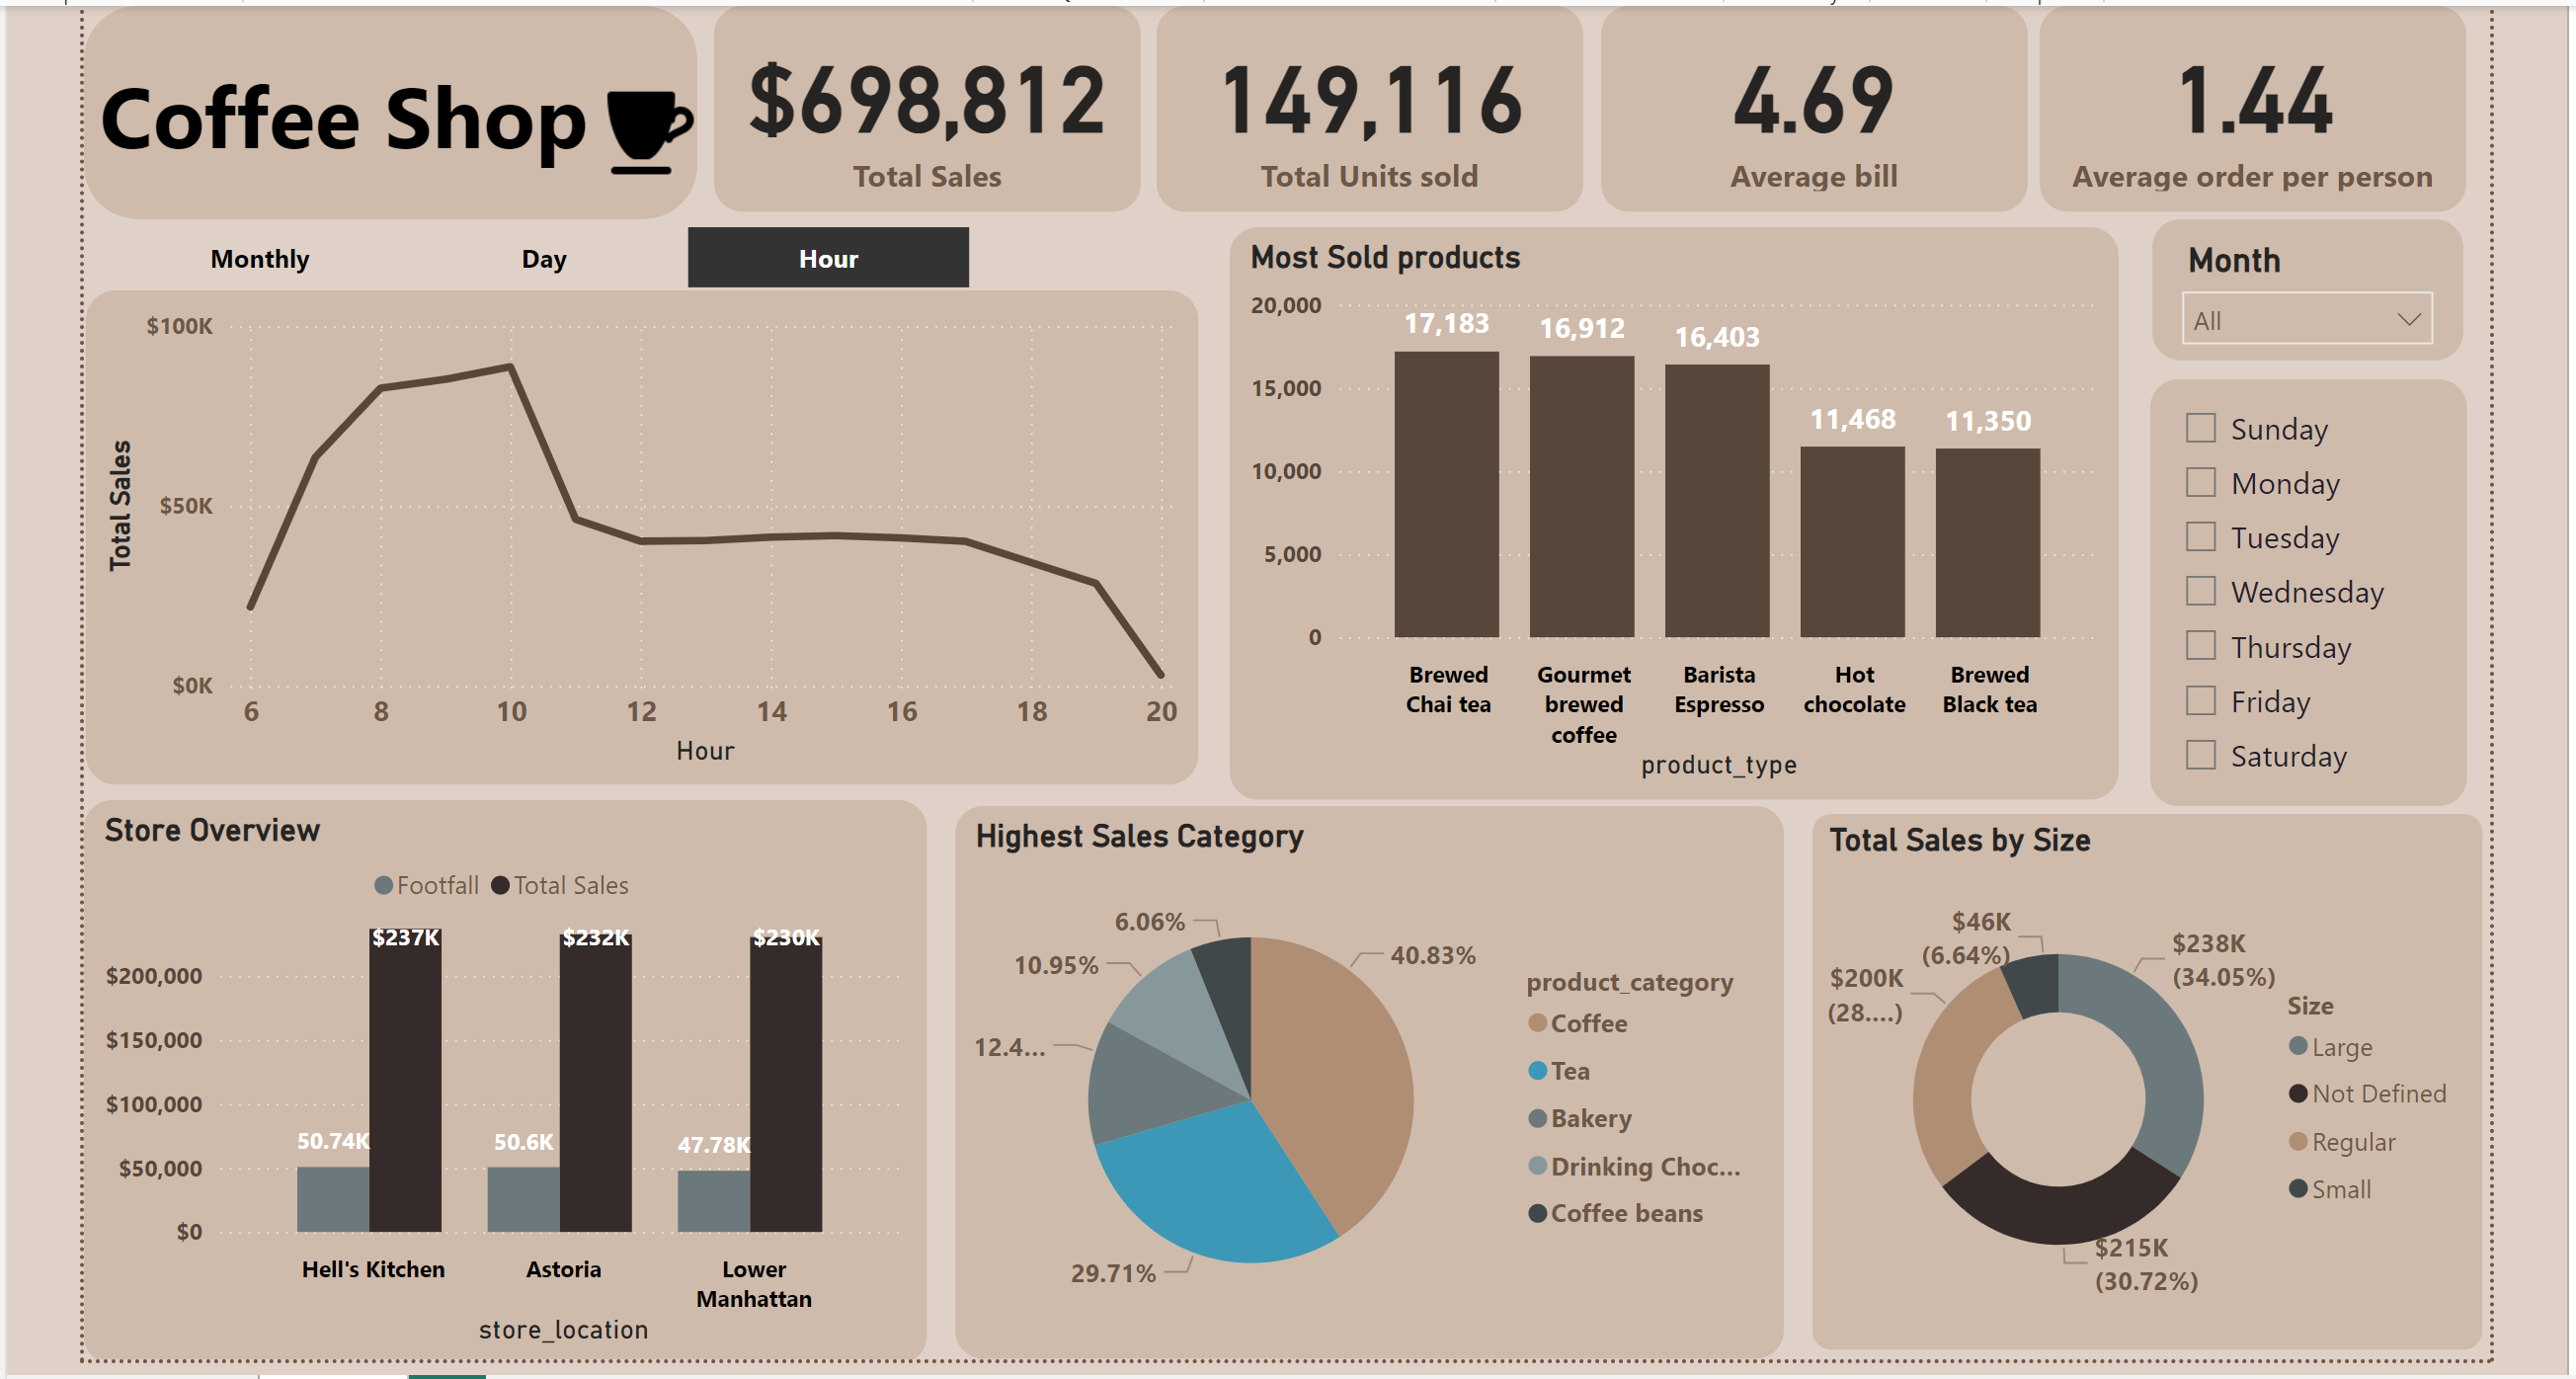

This screenshot's page, from the dashboard's own definition file:
{"tool":"powerbi","page":{"name":"Page 1","canvas":[1280,720],"ordinal":0},"visuals":[{"type":"card","fields":{"Values":["Measure Table.Total Sales"]},"box":[335.3,0,226.9,109.6],"z":0},{"type":"lineChart","title":"Hourly Sales","fields":{"Category":["Transactions.Hour"],"Y":["Measure Table.Total Sales"]},"box":[0,150,594.1,264.9],"z":1000},{"type":"clusteredColumnChart","title":"Most Sold products","fields":{"Category":["Transactions.product_type"],"Y":["Measure Table.Total Units sold"]},"box":[609.4,117.9,473.1,304.7],"z":2000},{"type":"donutChart","fields":{"Category":["Transactions.Size"],"Y":["Measure Table.Total Sales"]},"box":[920.2,430.2,356.7,284.8],"z":3000},{"type":"slicer","fields":{"Values":["Parameter.Parameter"]},"box":[0,117.9,490,32.2],"z":4000},{"type":"clusteredColumnChart","title":"Store Overview","fields":{"Category":["Transactions.store_location"],"Y":["CountNonNull(Transactions.transaction_qty)","Measure Table.Total Sales"]},"box":[0,422.6,448.6,300.1],"z":5000},{"type":"pieChart","title":"Highest Sales Category","fields":{"Category":["Transactions.product_category"],"Y":["Measure Table.Total Sales"]},"box":[463.9,425.6,441,294],"z":6000},{"type":"slicer","fields":{"Values":["Date Table.Monthly"]},"box":[1100.2,113.5,165.7,75.2],"z":7000},{"type":"slicer","fields":{"Values":["Date Table.Day"]},"box":[1099,198.9,168.3,226.9],"z":8000},{"type":"shape","box":[0,0,326.4,113.5],"z":9000},{"type":"card","fields":{"Values":["Measure Table.Total Units sold"]},"box":[571.2,0,226.9,109.6],"z":10000},{"type":"card","fields":{"Values":["Measure Table.Average bill"]},"box":[807,0,226.9,109.6],"z":11000},{"type":"card","fields":{"Values":["Measure Table.Average order per person"]},"box":[1040.3,0,226.9,109.6],"z":12000},{"type":"image","box":[257.1,32.3,77.9,70],"z":13000}]}

Visuals, with their boxes on the page's 1280x720 design canvas (x1, y1, x2, y2). These are canvas units, not pixel positions in the 2576x1379 screenshot, which may show the page scaled, cropped or inside an application window:
card - Measure Table.Total Sales: Rect(335, 0, 562, 110)
"Hourly Sales" lineChart: Rect(0, 150, 594, 415)
"Most Sold products" clusteredColumnChart: Rect(609, 118, 1082, 423)
donutChart - Transactions.Size x Measure Table.Total Sales: Rect(920, 430, 1277, 715)
slicer - Parameter.Parameter: Rect(0, 118, 490, 150)
"Store Overview" clusteredColumnChart: Rect(0, 423, 449, 723)
"Highest Sales Category" pieChart: Rect(464, 426, 905, 720)
slicer - Date Table.Monthly: Rect(1100, 114, 1266, 189)
slicer - Date Table.Day: Rect(1099, 199, 1267, 426)
shape: Rect(0, 0, 326, 114)
card - Measure Table.Total Units sold: Rect(571, 0, 798, 110)
card - Measure Table.Average bill: Rect(807, 0, 1034, 110)
card - Measure Table.Average order per person: Rect(1040, 0, 1267, 110)
image: Rect(257, 32, 335, 102)
